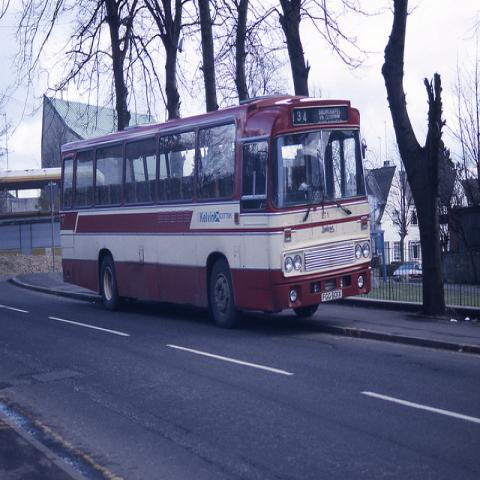bus: (60, 98, 373, 332)
car: (393, 261, 423, 282)
